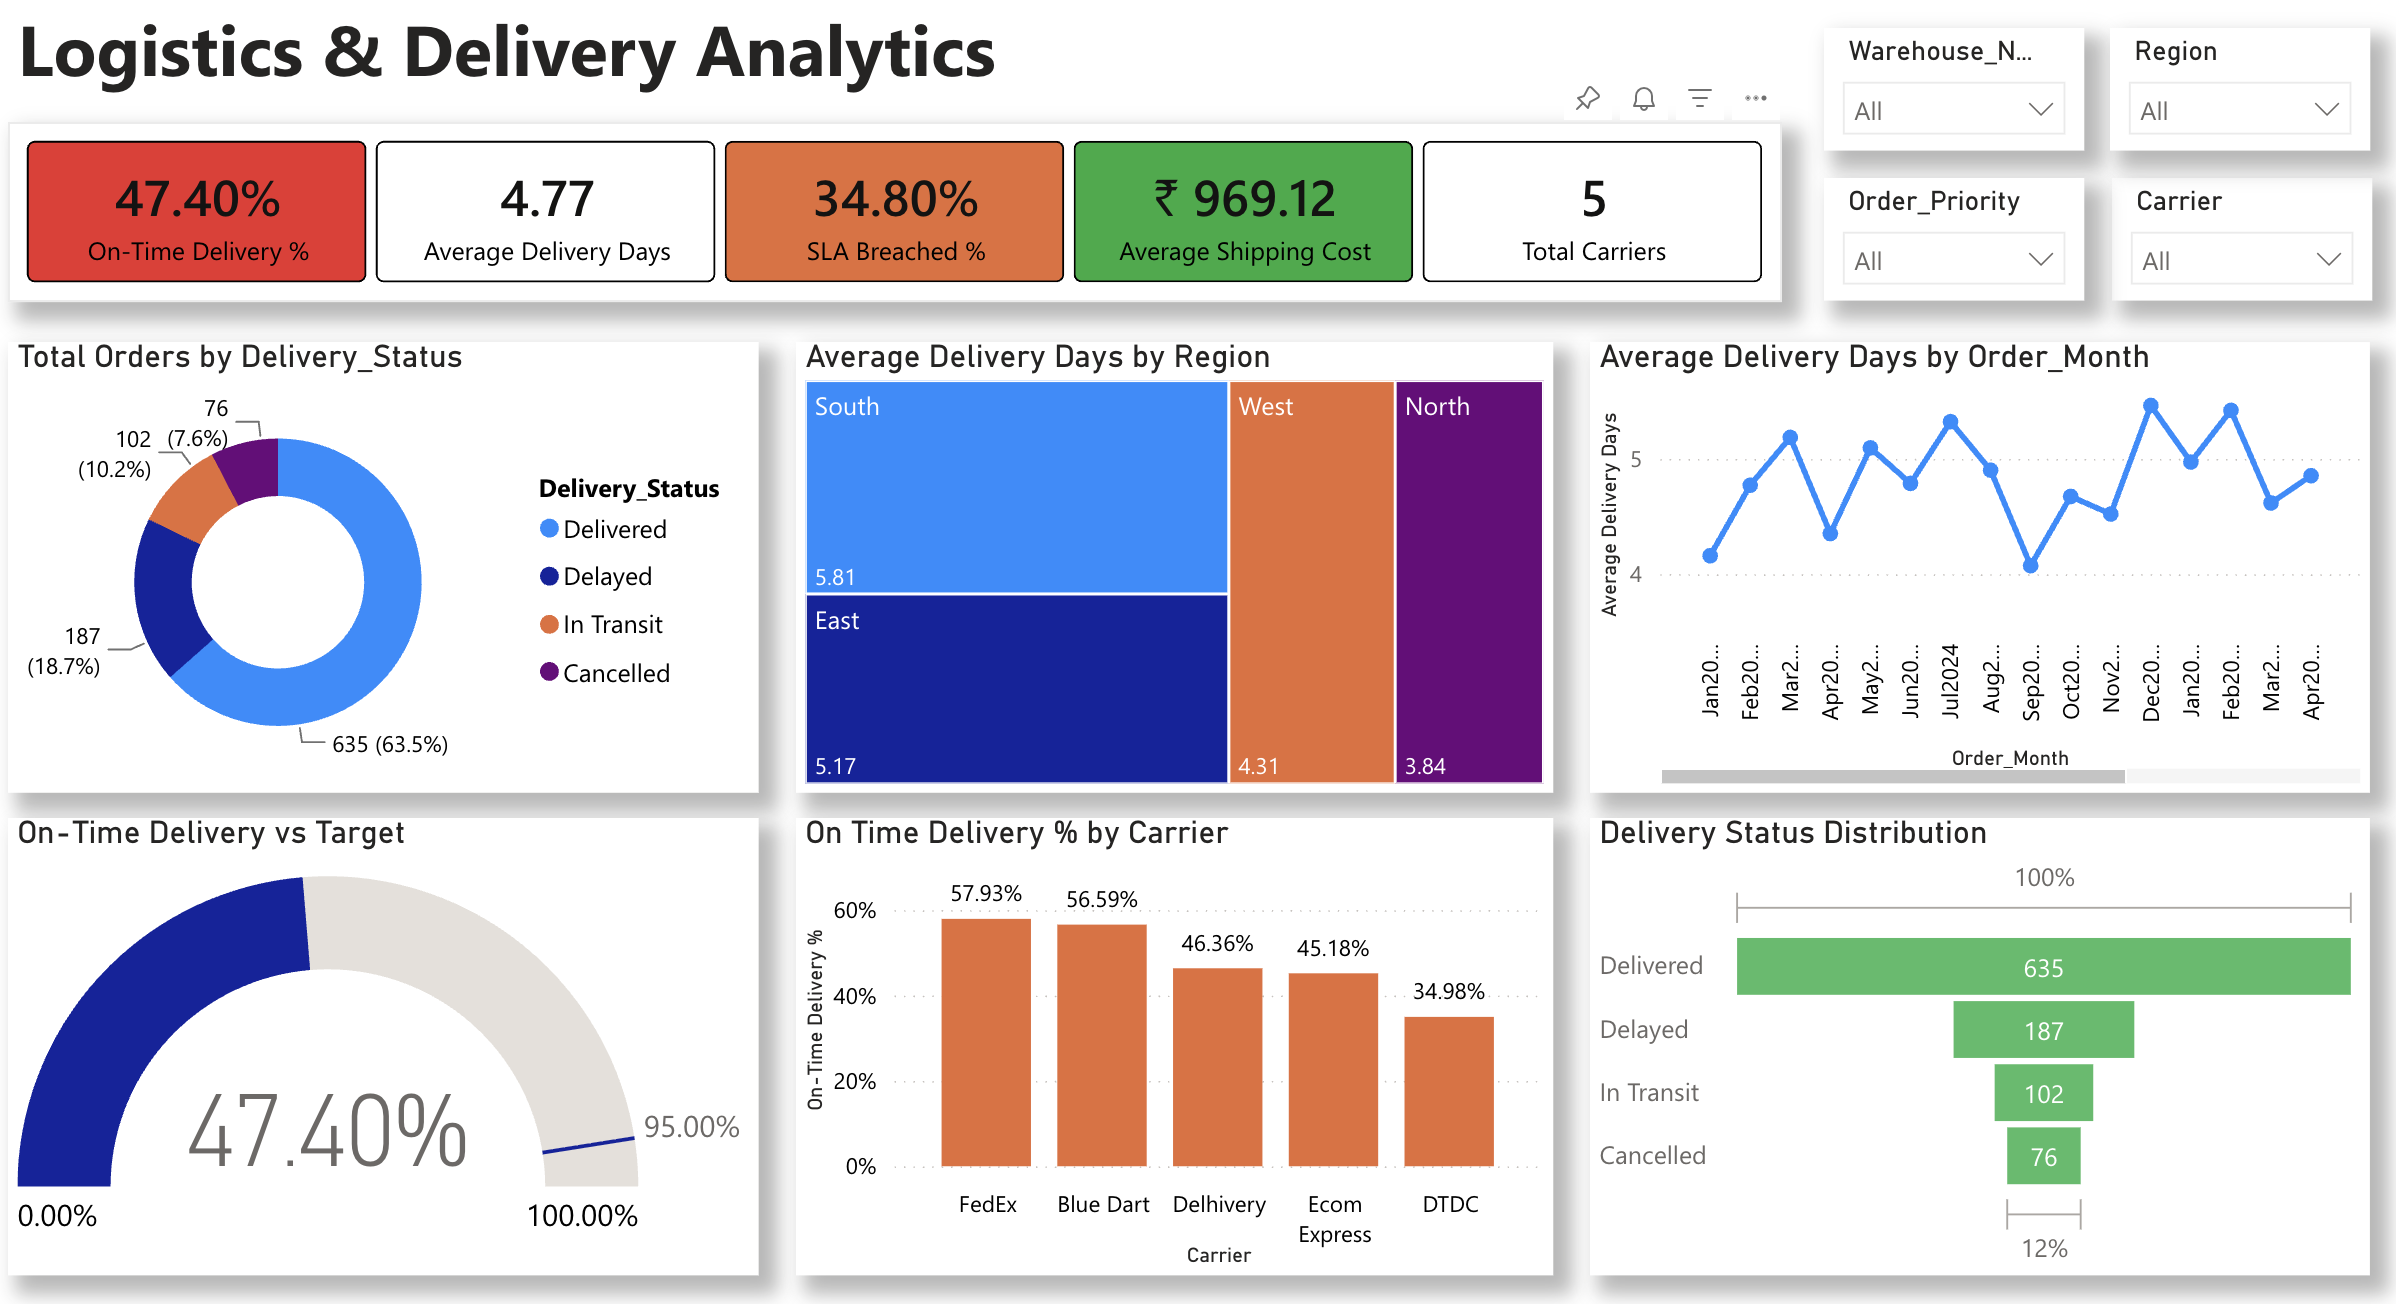

The dashboard page shown, as its layout file describes it:
{"tool":"powerbi","page":{"name":"Logistics & Delivery Analytics","canvas":[1280,720],"ordinal":2},"visuals":[{"type":"textbox","box":[10.6,0,587.5,69.7],"z":0},{"type":"cardVisual","fields":{"Data":["Orders.On-Time Delivery %","Orders.Average Delivery Days","Orders.SLA Breached %","Orders.Average Shipping Cost","Orders.Total Carriers"]},"box":[10.6,69.7,940.3,95.4],"z":1000},{"type":"donutChart","fields":{"Category":["Orders.Delivery_Status"],"Y":["Orders.Total Orders"]},"box":[10.6,186.2,398.2,239.2],"z":2000},{"type":"gauge","title":"On-Time Delivery vs Target","fields":{"Y":["Orders.On-Time Delivery %"],"TargetValue":["Orders.Target On-Time Delivery"]},"box":[10.6,439.1,398.2,242.3],"z":3000},{"type":"treemap","fields":{"Group":["Orders.Region"],"Values":["Orders.Average Delivery Days"]},"box":[428.5,186.2,401.3,239.2],"z":4000},{"type":"clusteredColumnChart","title":"On Time Delivery %  by Carrier","fields":{"Category":["Orders.Carrier"],"Y":["Orders.On-Time Delivery %"]},"box":[428.5,439.1,401.3,242.3],"z":5000},{"type":"lineChart","fields":{"Category":["Orders.Order_Month"],"Y":["Orders.Average Delivery Days"]},"box":[849.5,186.2,413.4,239.2],"z":6000},{"type":"funnel","title":"Delivery Status Distribution","fields":{"Category":["Orders.Delivery_Status"],"Y":["Orders.Total Orders"]},"box":[849.5,439.1,413.4,242.3],"z":7000},{"type":"slicer","fields":{"Values":["Orders.Warehouse_Name"]},"box":[973.6,19.7,137.8,65.1],"z":8000},{"type":"slicer","fields":{"Values":["Orders.Carrier"]},"box":[1126.6,99.9,137.8,65.1],"z":9000},{"type":"slicer","fields":{"Values":["Orders.Region"]},"box":[1125.1,19.7,137.8,65.1],"z":10000},{"type":"slicer","fields":{"Values":["Orders.Order_Priority"]},"box":[973.6,99.9,137.8,65.1],"z":11000}]}

Visuals, with their boxes on the page's 1280x720 design canvas (x1, y1, x2, y2). These are canvas units, not pixel positions in the 2396x1304 screenshot, which may show the page scaled, cropped or inside an application window:
textbox: [11, 0, 598, 70]
cardVisual - Orders.On-Time Delivery % x Orders.Average Delivery Days: [11, 70, 951, 165]
donutChart - Orders.Delivery_Status x Orders.Total Orders: [11, 186, 409, 425]
"On-Time Delivery vs Target" gauge: [11, 439, 409, 681]
treemap - Orders.Region x Orders.Average Delivery Days: [428, 186, 830, 425]
"On Time Delivery %  by Carrier" clusteredColumnChart: [428, 439, 830, 681]
lineChart - Orders.Order_Month x Orders.Average Delivery Days: [850, 186, 1263, 425]
"Delivery Status Distribution" funnel: [850, 439, 1263, 681]
slicer - Orders.Warehouse_Name: [974, 20, 1111, 85]
slicer - Orders.Carrier: [1127, 100, 1264, 165]
slicer - Orders.Region: [1125, 20, 1263, 85]
slicer - Orders.Order_Priority: [974, 100, 1111, 165]
